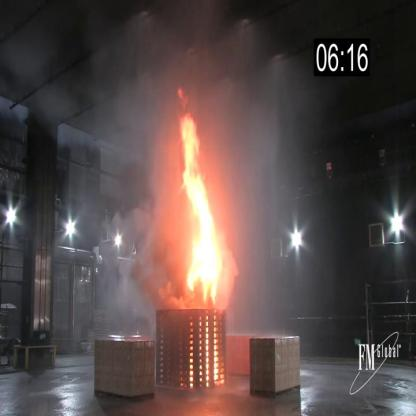fire: (173, 110, 226, 305)
